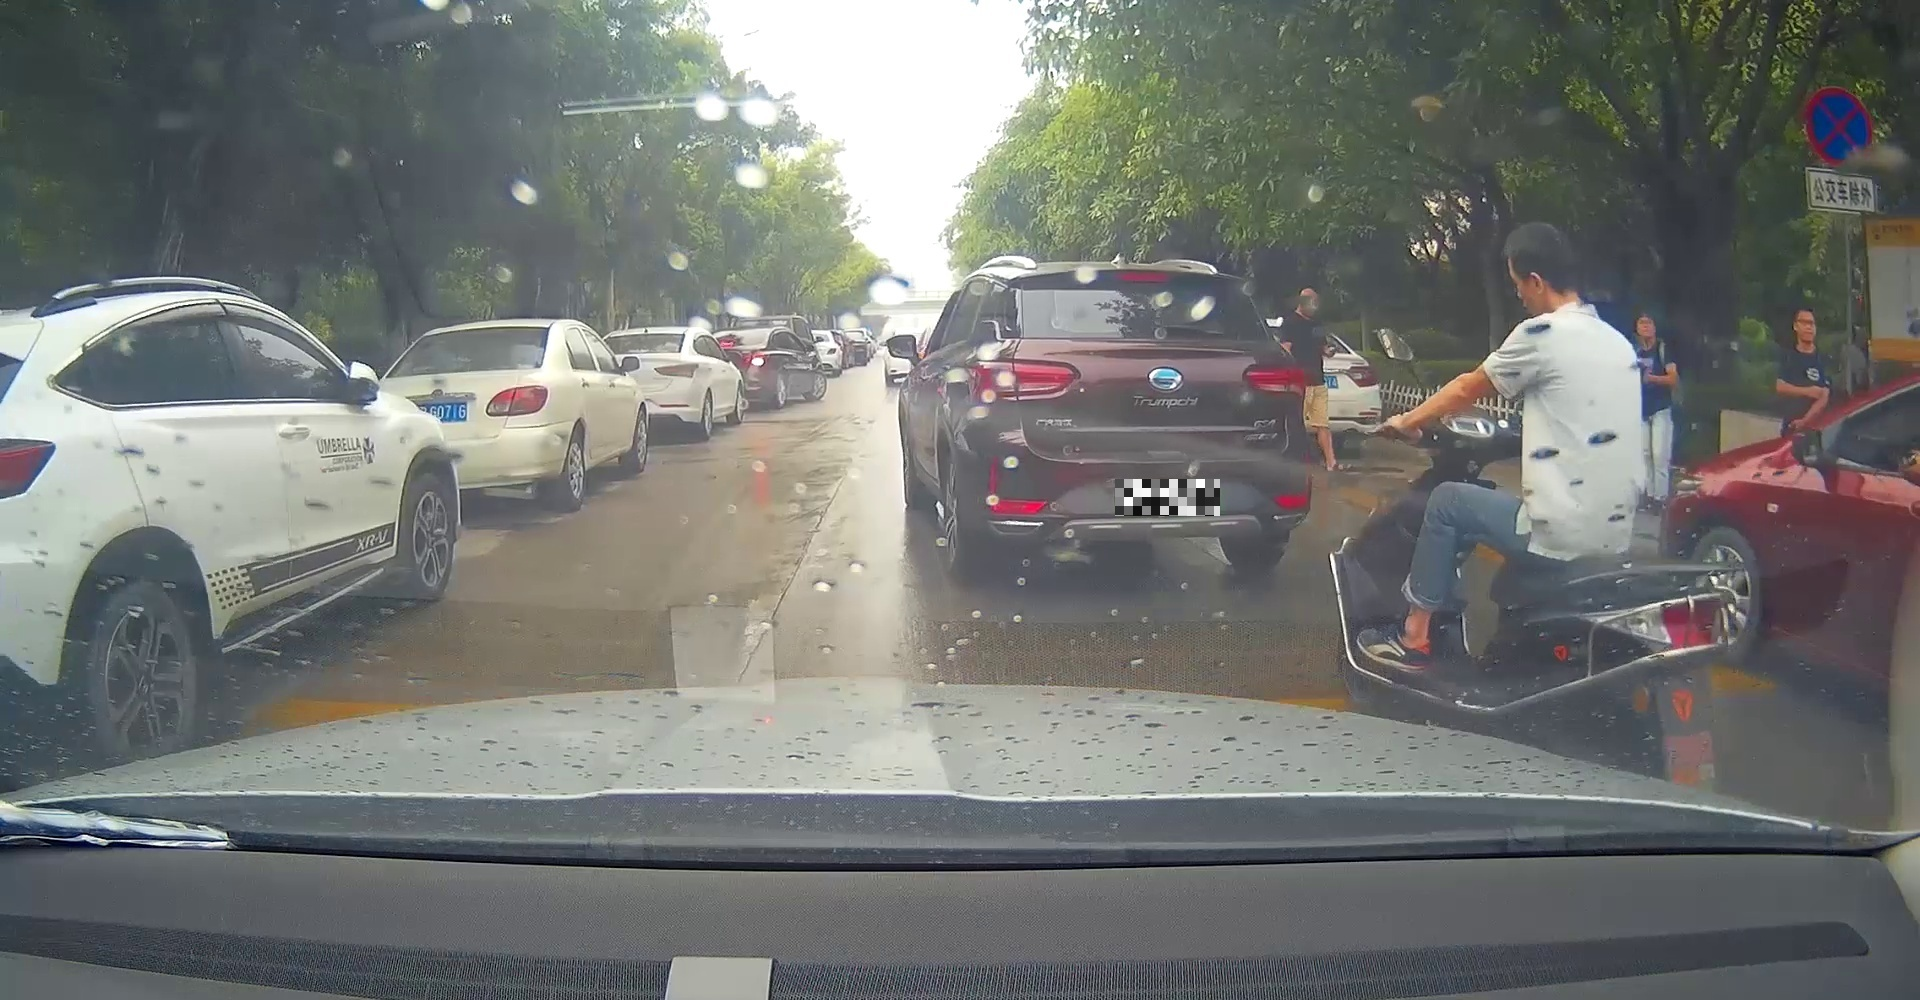L_light: (968, 360, 1079, 405)
R_light: (1242, 359, 1305, 398)
T_light: (1116, 269, 1170, 284)
day-brake: (957, 261, 1312, 581)
plate_1: (1115, 478, 1220, 516)
